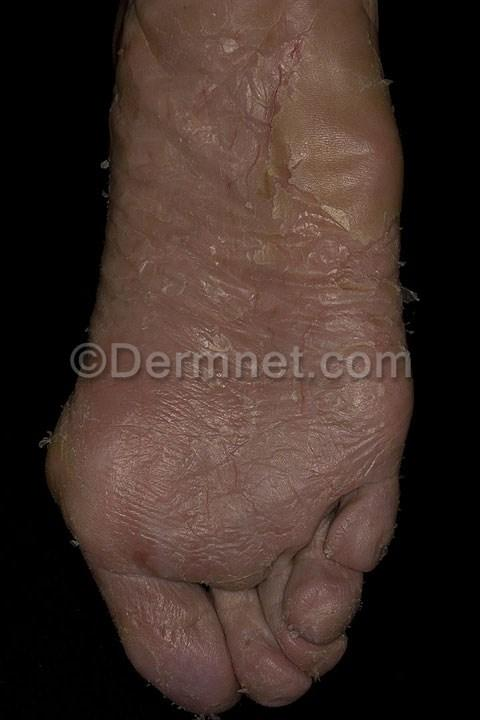Eczema: (79, 364, 212, 476), (204, 418, 340, 524), (215, 221, 349, 326), (103, 234, 213, 355), (228, 328, 343, 428), (123, 99, 210, 228), (67, 476, 193, 561), (218, 9, 322, 110), (316, 9, 402, 129), (346, 255, 418, 398), (308, 138, 398, 251), (217, 119, 312, 219), (116, 580, 203, 685), (134, 10, 208, 90), (345, 401, 403, 493), (192, 529, 270, 585), (278, 521, 335, 580), (212, 611, 267, 660), (42, 435, 88, 492), (343, 495, 387, 549), (225, 648, 278, 685), (298, 573, 327, 624), (224, 590, 285, 612), (285, 639, 319, 675), (193, 680, 233, 710), (95, 566, 133, 589), (267, 673, 294, 701), (318, 639, 343, 656)
